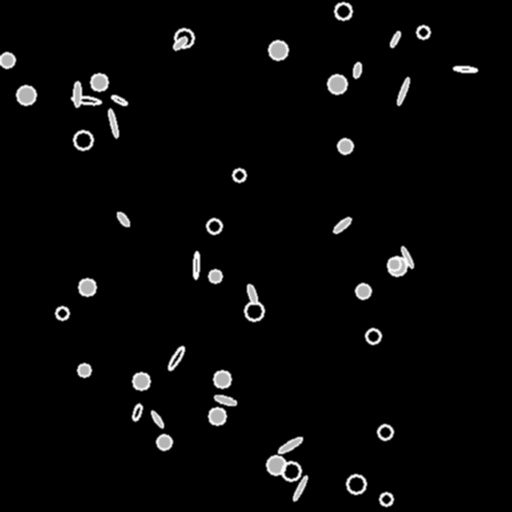pseudomonas: (277, 435, 303, 455), (166, 345, 186, 371), (395, 77, 411, 105), (292, 475, 308, 501), (332, 216, 352, 234), (107, 109, 119, 137), (213, 393, 237, 407), (245, 283, 259, 305), (400, 246, 414, 268), (72, 95, 100, 105), (172, 35, 188, 51), (150, 410, 164, 428), (116, 211, 130, 227), (389, 30, 401, 48), (73, 82, 81, 106), (111, 94, 127, 106), (132, 403, 142, 421), (352, 62, 362, 78), (193, 252, 199, 278), (453, 66, 477, 72)
synechocystis: (328, 75, 346, 93), (388, 257, 406, 275), (267, 456, 285, 474), (17, 86, 35, 104), (347, 475, 365, 493), (282, 462, 300, 480), (269, 41, 287, 59), (245, 302, 263, 320), (74, 131, 92, 149), (175, 29, 193, 47), (133, 373, 149, 389), (335, 3, 351, 19), (79, 279, 95, 295), (91, 74, 107, 90), (214, 371, 230, 387), (209, 408, 225, 424), (378, 425, 392, 439), (338, 139, 352, 153), (157, 435, 171, 449), (356, 284, 370, 298), (207, 219, 221, 233), (0, 53, 14, 67), (366, 329, 380, 343), (56, 307, 68, 319), (78, 364, 90, 376), (417, 26, 429, 38), (233, 169, 245, 181), (209, 270, 221, 282), (388, 258, 400, 270), (380, 493, 392, 505)
